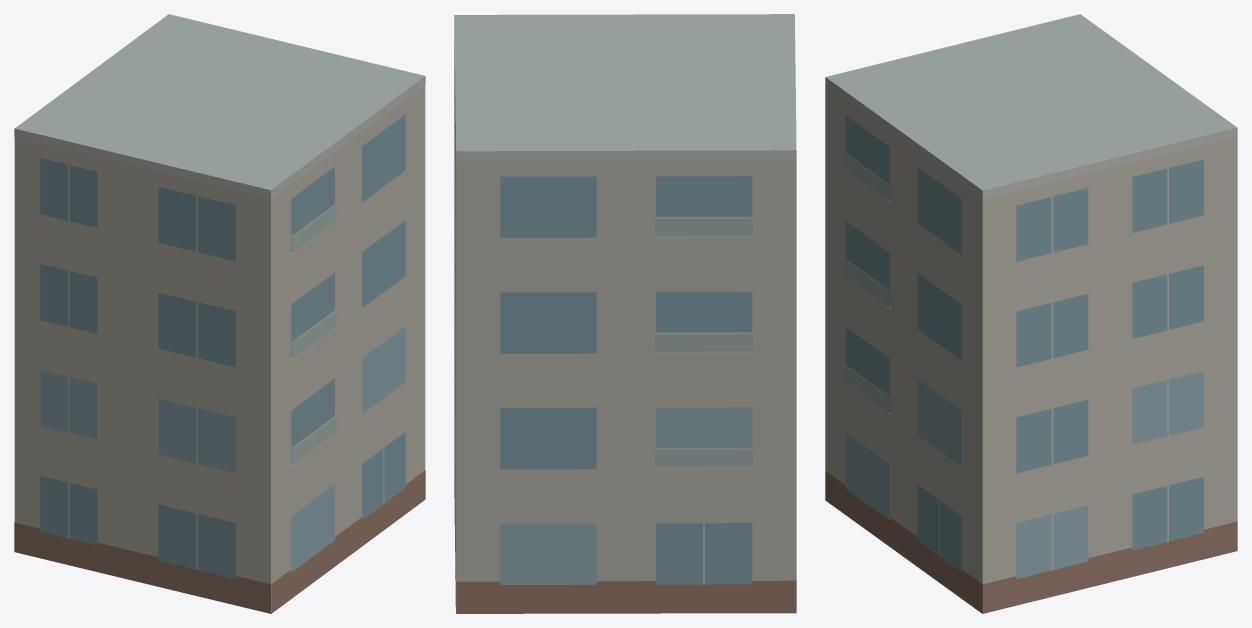
Rendered from residential-d38592cb-bbaa-4995-94e5-3fb766ee42d2.glb.
3 views of the same model, side by side, from view 1: azimuth 30°, elevation 25°; view 2: azimuth 150°, elevation 25°; view 3: azimuth 270°, elevation 25° (orthographic). The views are drawn at different scales.
Parts seen in each view (by area): view 1: residential-d38592cb-bbaa-4995-94e5-3fb766ee42d2.tmp; view 2: residential-d38592cb-bbaa-4995-94e5-3fb766ee42d2.tmp; view 3: residential-d38592cb-bbaa-4995-94e5-3fb766ee42d2.tmp.
Boxes of the visible parts, x1,y1,x2,y2 form: residential-d38592cb-bbaa-4995-94e5-3fb766ee42d2.tmp: [14, 14, 425, 613]; residential-d38592cb-bbaa-4995-94e5-3fb766ee42d2.tmp: [454, 14, 796, 613]; residential-d38592cb-bbaa-4995-94e5-3fb766ee42d2.tmp: [825, 14, 1237, 613].
Bounding box in the file's own units: 10.92 × 12.2 × 10.77.
